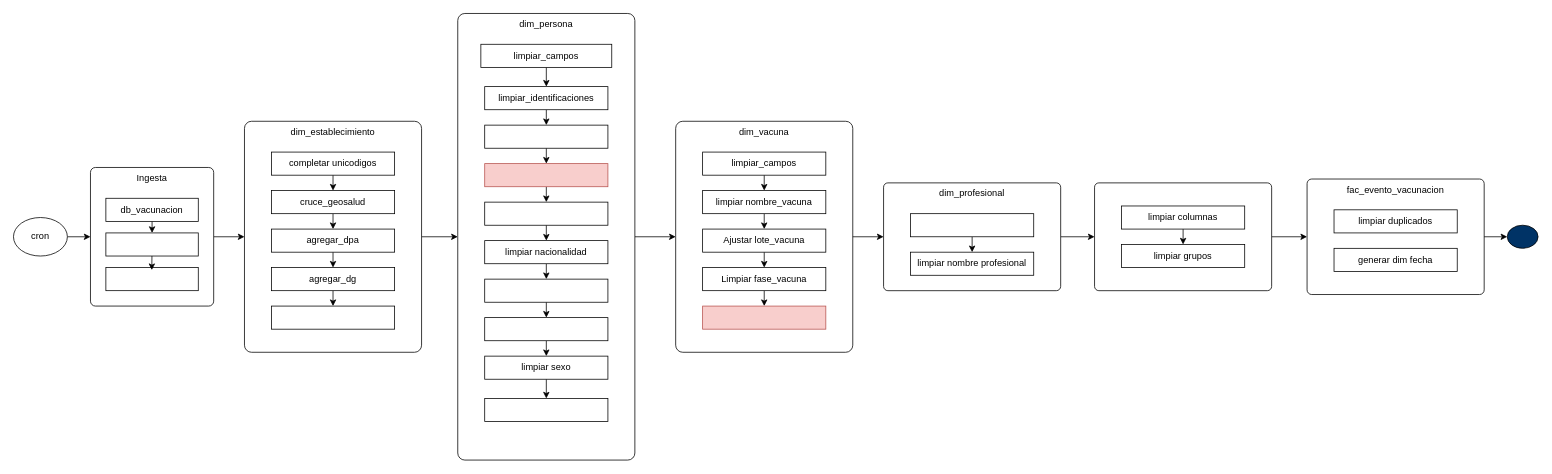
Some shapes in this 1552 by 474 pixel diagram are drawn without their labels. Here are the shapes that lost their labels. From the top down, the box of each, then its label:
(484, 124, 608, 148): validar_cedulas
(484, 163, 608, 187): cruce_mpi
(484, 201, 608, 225): des... fecha nacimiento
(910, 213, 1034, 237): limpiar_identificacion
(105, 232, 198, 256): mpi
(1094, 182, 1272, 291): dim_grupo_riesgo
(105, 267, 198, 291): geosalud
(484, 278, 608, 302): limpiar etnia
(271, 305, 395, 329): agregar_coordenadas
(484, 317, 608, 341): Limpiar pueblo
(702, 305, 826, 329): reubicar_vacunas
(484, 398, 608, 422): marcar registros
